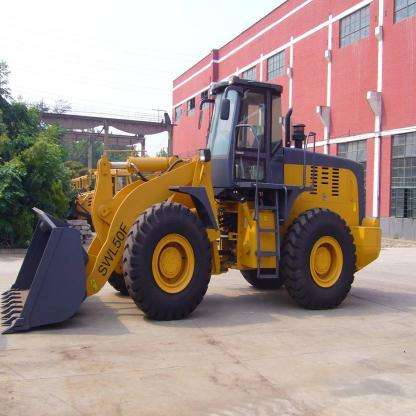bull_dozer/loader/grader: (1, 72, 395, 354)
